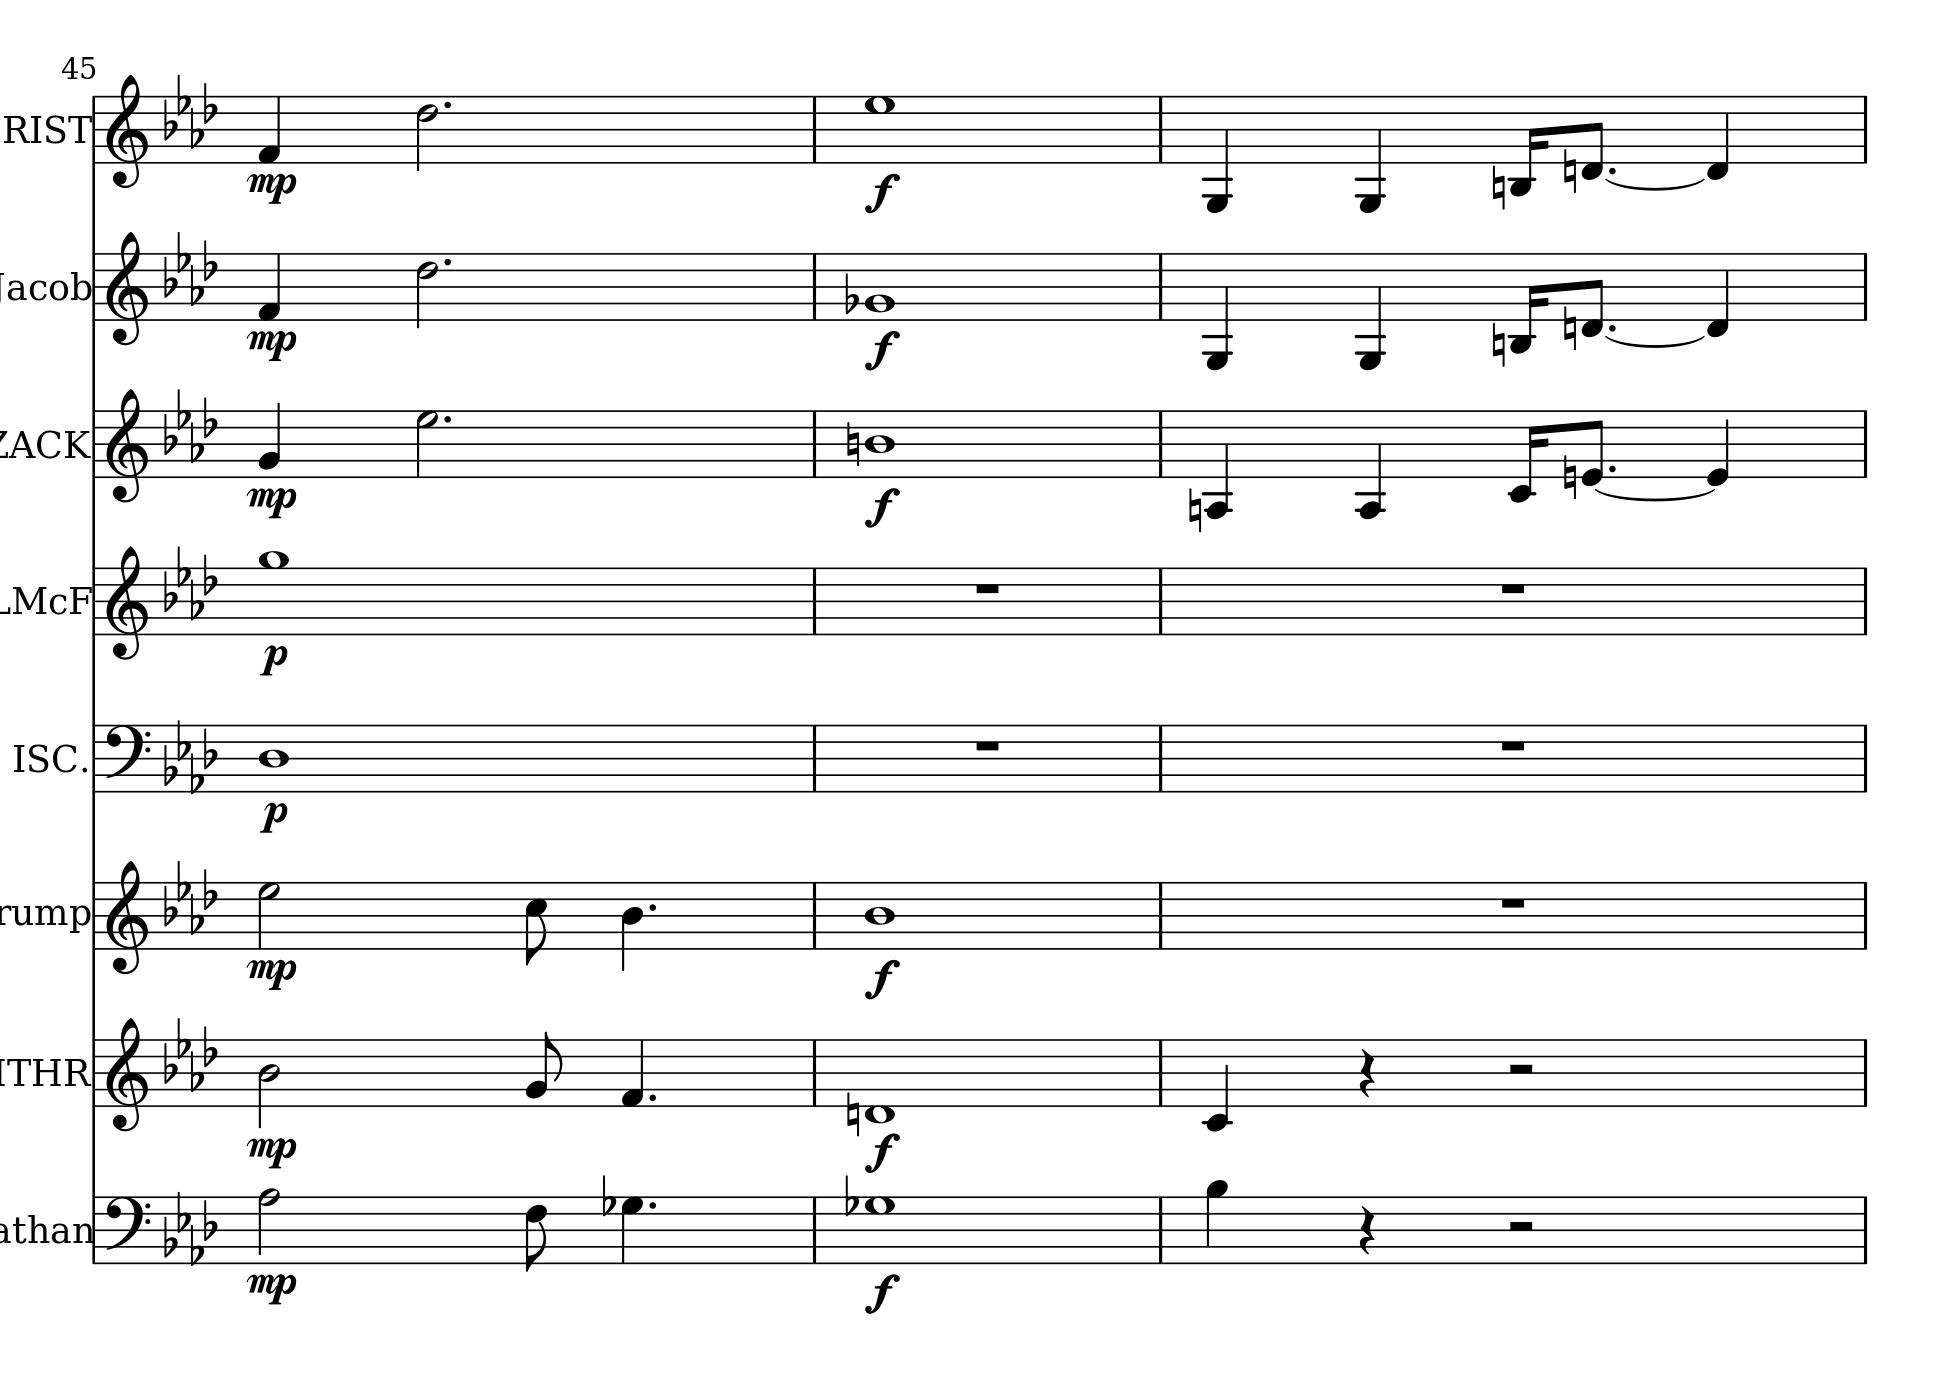16_-2: (1507, 408, 1548, 505)
16_-3: (1509, 250, 1548, 355), (1509, 94, 1545, 196)
1_-1: (865, 1035, 897, 1125)
1_2: (864, 249, 898, 322)
1_4: (862, 877, 897, 949), (864, 406, 895, 478), (258, 721, 289, 792)
1_7: (862, 1192, 895, 1266), (864, 94, 897, 163)
1_9: (256, 547, 291, 634)
2_4: (256, 1036, 282, 1126)
2_6: (415, 250, 441, 330), (415, 94, 439, 172)
2_7: (414, 408, 439, 478), (256, 880, 282, 949)
2_8: (256, 1185, 280, 1264)
4: (60, 54, 78, 81)
4_-1: (1704, 250, 1731, 339), (1705, 93, 1731, 181)
4_-2: (1203, 1036, 1233, 1132)
4_-4: (1354, 406, 1387, 519), (1203, 406, 1234, 517)
4_-5: (1354, 250, 1387, 370), (1203, 250, 1234, 370), (1203, 94, 1234, 213), (1356, 94, 1387, 213)
4_0: (1705, 406, 1731, 487)
4_1: (619, 1036, 646, 1108), (256, 250, 282, 322), (256, 94, 282, 163)
4_2: (256, 400, 282, 478)
4_4: (619, 880, 645, 972)
4_7: (619, 1194, 645, 1264)
4_9: (1204, 1177, 1230, 1266)
5: (79, 52, 96, 79)
8_-1: (1581, 250, 1608, 337), (1581, 94, 1606, 181)
8_0: (1581, 408, 1608, 486)
8_2: (525, 1030, 564, 1107)
8_5: (523, 880, 549, 966)
8_6: (523, 1194, 549, 1273)
A_F: (162, 856, 220, 934), (162, 1188, 219, 1267), (162, 229, 219, 307), (162, 717, 219, 795), (162, 543, 219, 619), (163, 70, 219, 148), (162, 385, 217, 462), (163, 1015, 219, 1090)
Fclef: (103, 721, 151, 793), (103, 1194, 151, 1266)
Flat: (600, 1171, 616, 1219), (841, 270, 859, 313), (843, 1171, 858, 1216)
Gclef: (103, 385, 150, 505), (103, 229, 150, 348), (103, 73, 150, 190), (103, 543, 148, 661), (105, 858, 148, 976), (105, 1015, 148, 1132)
Natural: (1561, 451, 1578, 501), (844, 1089, 861, 1138), (1491, 163, 1507, 211), (1491, 319, 1507, 367), (1561, 147, 1578, 193), (1561, 304, 1578, 351), (844, 420, 861, 466), (1188, 484, 1203, 534)
Rests1: (1497, 892, 1530, 912), (972, 579, 1005, 597), (1497, 579, 1530, 597), (972, 736, 1005, 754), (1497, 736, 1530, 754)
Rests2: (1504, 1060, 1537, 1078), (1504, 1216, 1537, 1234)
Rests4: (1356, 1203, 1380, 1257), (1357, 1045, 1380, 1099)
Single_barline: (1152, 94, 1170, 162), (1152, 880, 1170, 948), (1153, 1038, 1171, 1105), (1855, 1038, 1873, 1105), (805, 96, 823, 162), (805, 253, 823, 319), (1855, 882, 1873, 948), (805, 1197, 823, 1261), (1153, 252, 1170, 319), (1153, 409, 1170, 477), (1153, 567, 1170, 634), (1857, 567, 1873, 634), (1857, 96, 1873, 162), (1857, 253, 1873, 319), (807, 409, 823, 475), (805, 568, 822, 634), (1153, 724, 1170, 790), (1857, 724, 1873, 790), (805, 724, 822, 790), (1153, 1195, 1170, 1261), (1857, 1195, 1873, 1261), (1857, 411, 1873, 475), (88, 1195, 103, 1263), (807, 882, 822, 946), (807, 1039, 822, 1104), (88, 252, 102, 322), (88, 409, 102, 478), (88, 567, 102, 634), (87, 724, 100, 792), (88, 94, 100, 163), (88, 880, 100, 949), (88, 1038, 100, 1105)
Slur: (1596, 484, 1716, 501), (1603, 334, 1707, 348), (1605, 177, 1707, 190)
dot: (441, 253, 454, 268), (1606, 460, 1620, 475), (441, 97, 454, 111), (441, 411, 454, 424), (645, 900, 658, 913), (646, 1198, 658, 1210), (1608, 163, 1618, 175), (1608, 321, 1618, 333), (646, 1090, 657, 1102)
f: (862, 1129, 901, 1171), (862, 1272, 901, 1314), (862, 330, 900, 372), (862, 172, 900, 213), (862, 958, 900, 999), (862, 487, 900, 526)
mp: (244, 325, 298, 364), (244, 1270, 300, 1308), (244, 1132, 298, 1170), (246, 169, 298, 207), (244, 483, 298, 519), (246, 955, 298, 991)
p: (258, 643, 289, 678), (258, 799, 288, 835)
